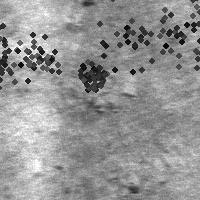rolled-in_scale: (67, 0, 185, 94), (136, 0, 200, 91), (57, 70, 138, 122), (0, 12, 46, 100), (9, 27, 67, 85), (119, 153, 179, 194), (71, 55, 111, 95)
